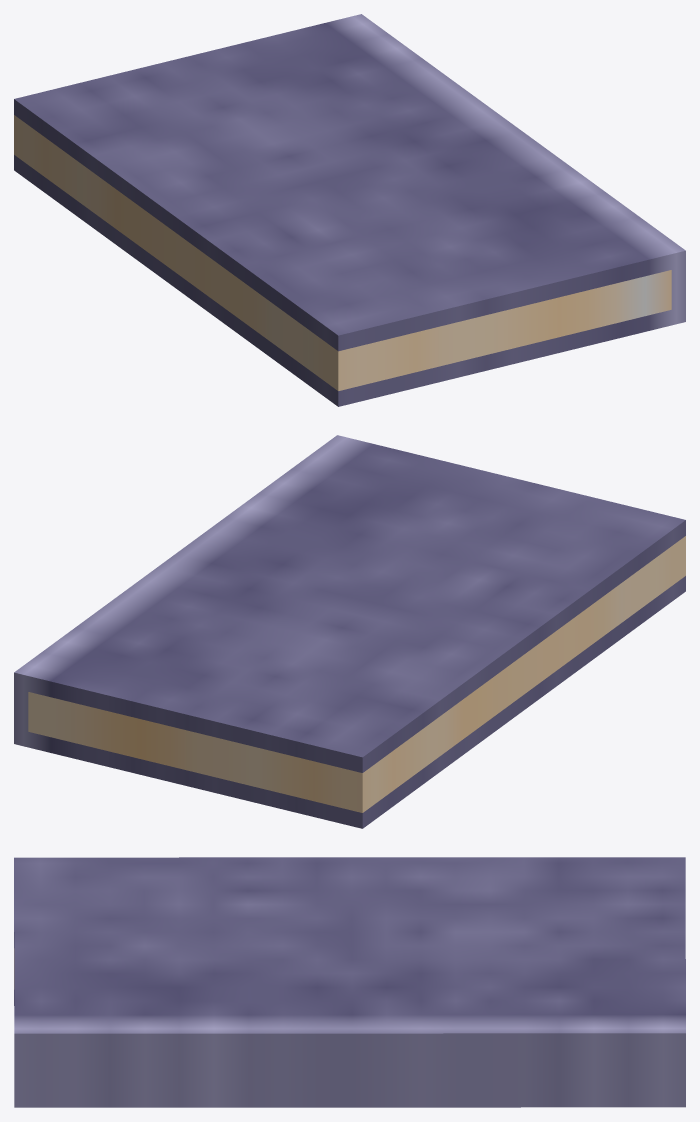
The model's file is BookBlue.fbx.
The picture shows the model from 3 angles, top to bottom: view 1: azimuth 30°, elevation 25°; view 2: azimuth 150°, elevation 25°; view 3: azimuth 270°, elevation 25°; orthographic projection. The views are drawn at different scales.
Parts seen in each view (by area): view 1: Cube.042; view 2: Cube.042; view 3: Cube.042.
Boxes of the visible parts, x1,y1,x2,y2 form: Cube.042: [14, 14, 685, 406]; Cube.042: [14, 435, 685, 828]; Cube.042: [14, 857, 685, 1107].
Bounding box in the file's own units: 49.84 × 9.75 × 80.17.
